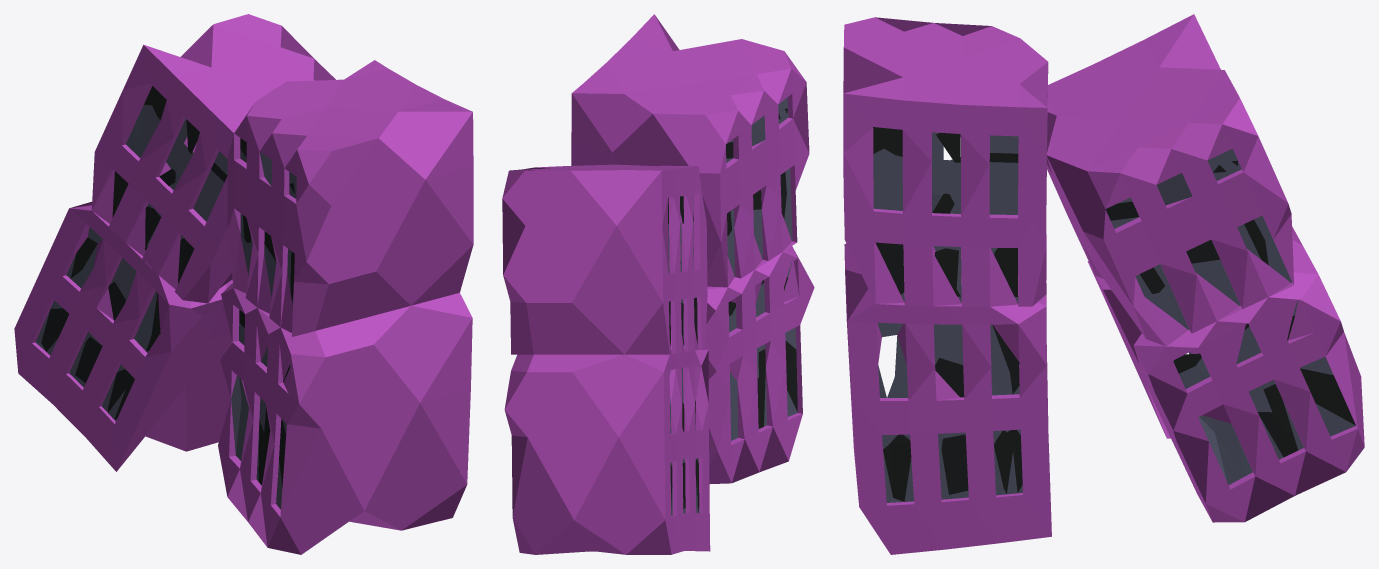
File: house3.fbx
3 views of the same model, side by side, from view 1: azimuth 30°, elevation 25°; view 2: azimuth 150°, elevation 25°; view 3: azimuth 270°, elevation 25° (orthographic). The views are drawn at different scales.
Visible parts, largest first — view 1: Cube.001; view 2: Cube.001; view 3: Cube.001.
Boxes of the visible parts, x1,y1,x2,y2 form: Cube.001: (14, 14, 473, 554); Cube.001: (502, 14, 814, 554); Cube.001: (843, 14, 1364, 554).
Size of the model in its own units: 766 by 1332 by 1331.
